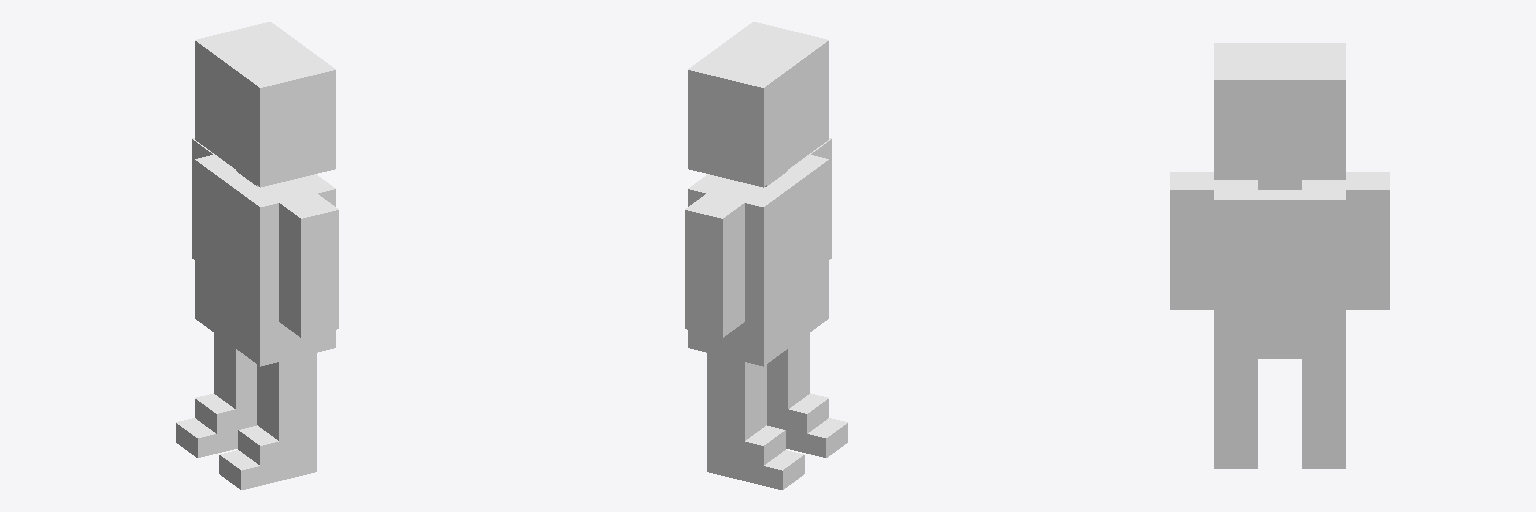
The model's file is char1_b1_1_2.obj.
3 views of the same model, side by side, from view 1: azimuth 30°, elevation 25°; view 2: azimuth 150°, elevation 25°; view 3: azimuth 270°, elevation 25° (orthographic).
Parts seen in each view (by area): view 1: object 1; view 2: object 1; view 3: object 1.
Part boxes in pixels (x1,y1,x2,y2): object 1: (176, 22, 338, 489); object 1: (685, 22, 847, 489); object 1: (1170, 43, 1389, 468).
Size of the model in its own units: 0.5 by 2 by 1.